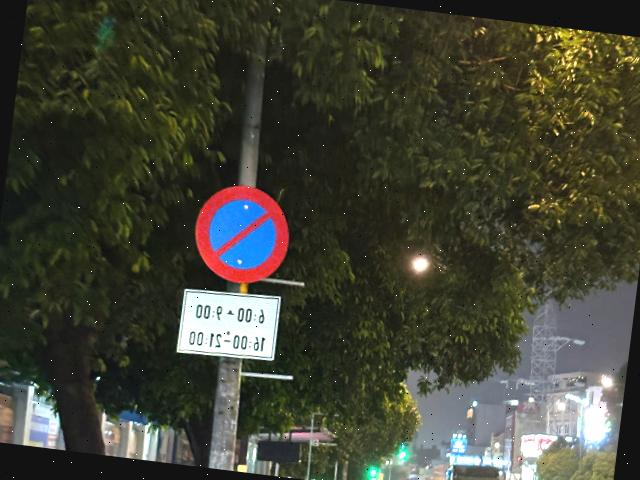cam-do-xe: (189, 178, 296, 288)
